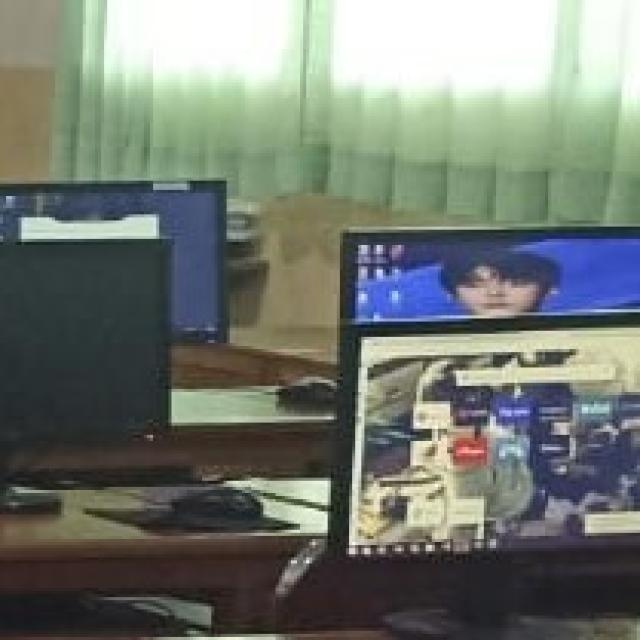offscreen: (0, 240, 168, 453)
onscreen: (330, 316, 640, 556), (0, 181, 224, 341), (344, 228, 640, 323)
